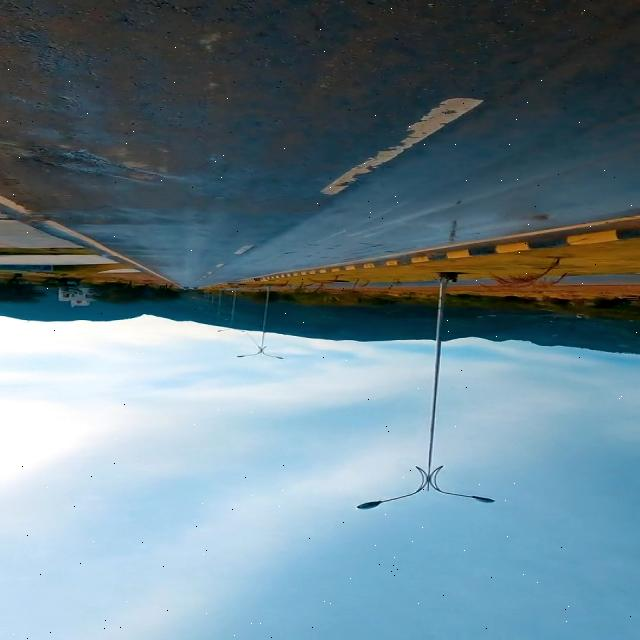lane: (321, 99, 481, 195)
road: (2, 1, 638, 287)
